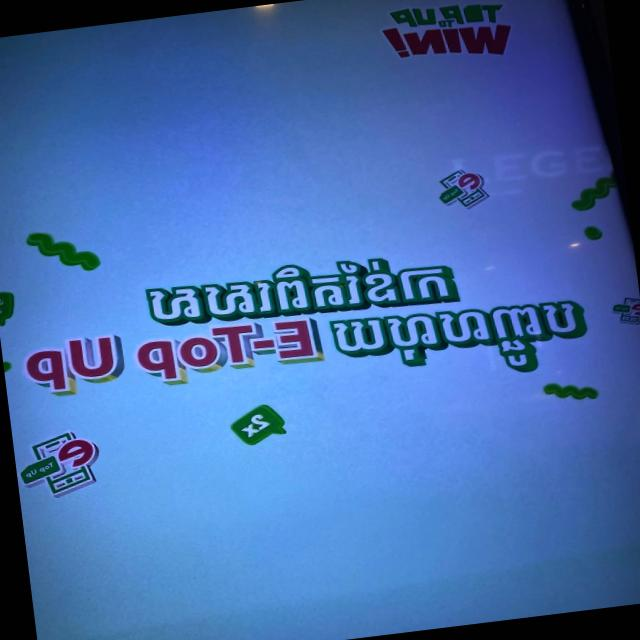700: (232, 408, 275, 440)
Yolov11_80vkh: (140, 250, 462, 329), (323, 297, 594, 375)
